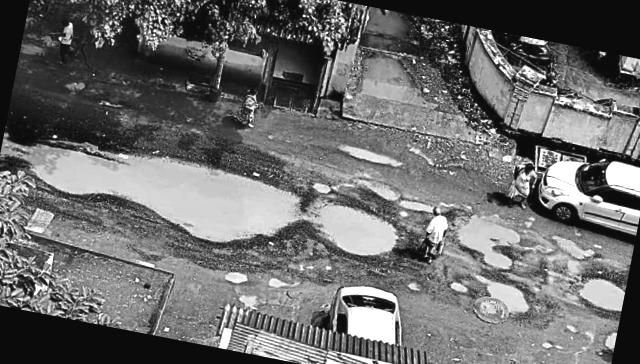Pothole: (0, 120, 312, 263), (294, 186, 414, 276), (431, 208, 535, 272), (562, 264, 628, 322), (467, 272, 538, 324), (540, 226, 606, 270), (337, 166, 408, 204), (326, 138, 408, 169), (252, 267, 299, 302), (387, 188, 443, 217), (215, 262, 254, 289), (308, 172, 341, 198), (443, 277, 468, 299), (62, 74, 86, 96), (400, 276, 426, 294), (594, 330, 616, 351)
